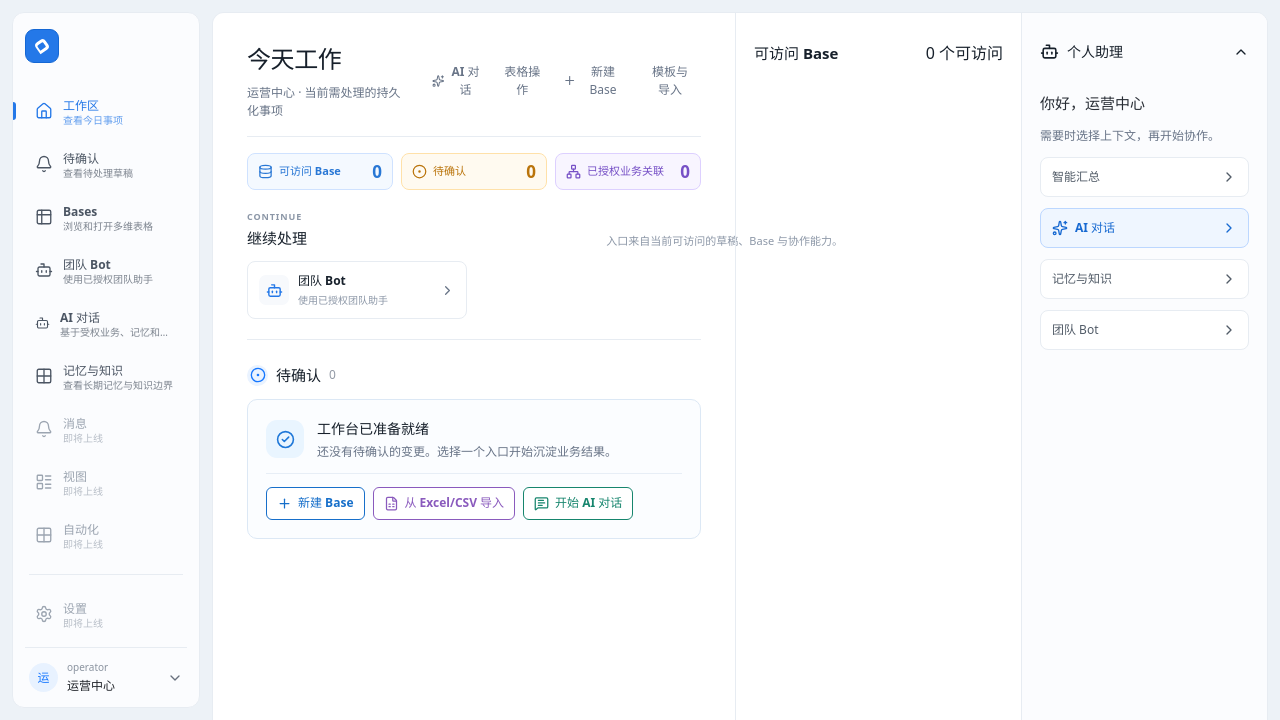
Test case: keeps a failed creation drawer and its idempotency key for an explicit retry
Click the button "新建 Base" in the row of "· 当前需处理的持久化事项" at (594, 80), box top-left (556, 56), bottom-right (631, 106)
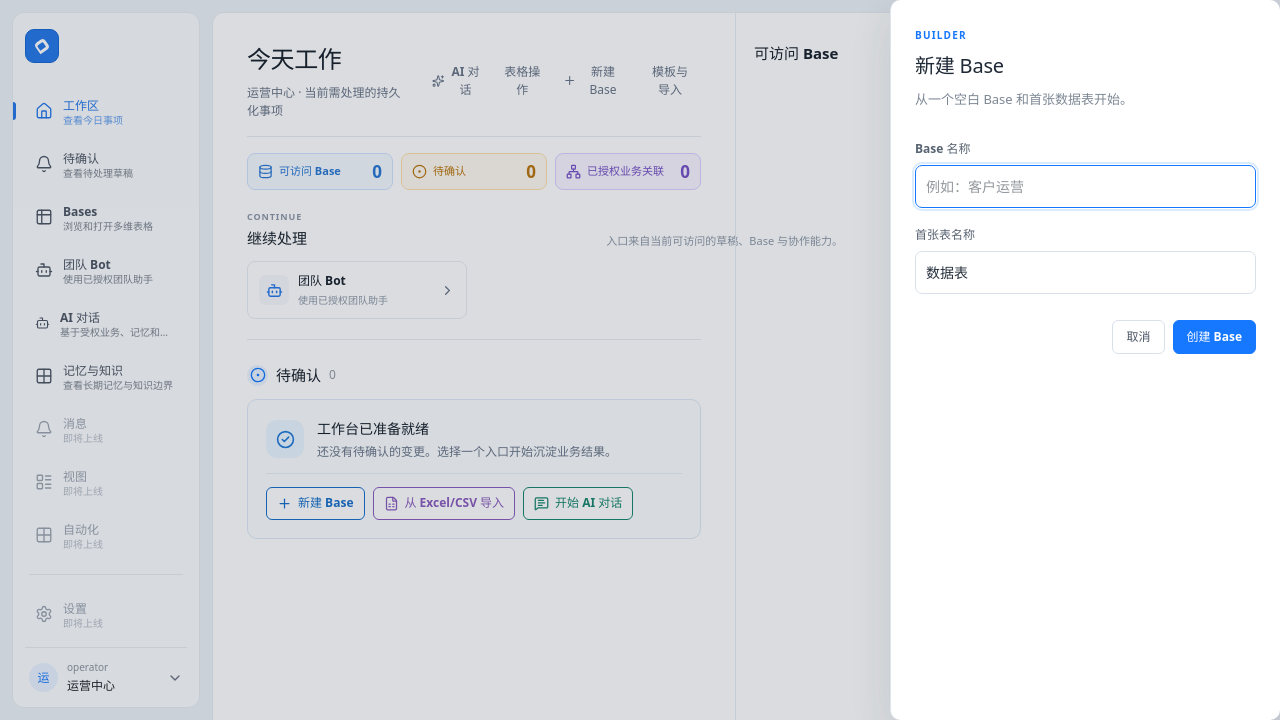
Type "重试 Base" into the field labelled "Base 名称" at (1086, 186), box top-left (915, 165), bottom-right (1256, 208)
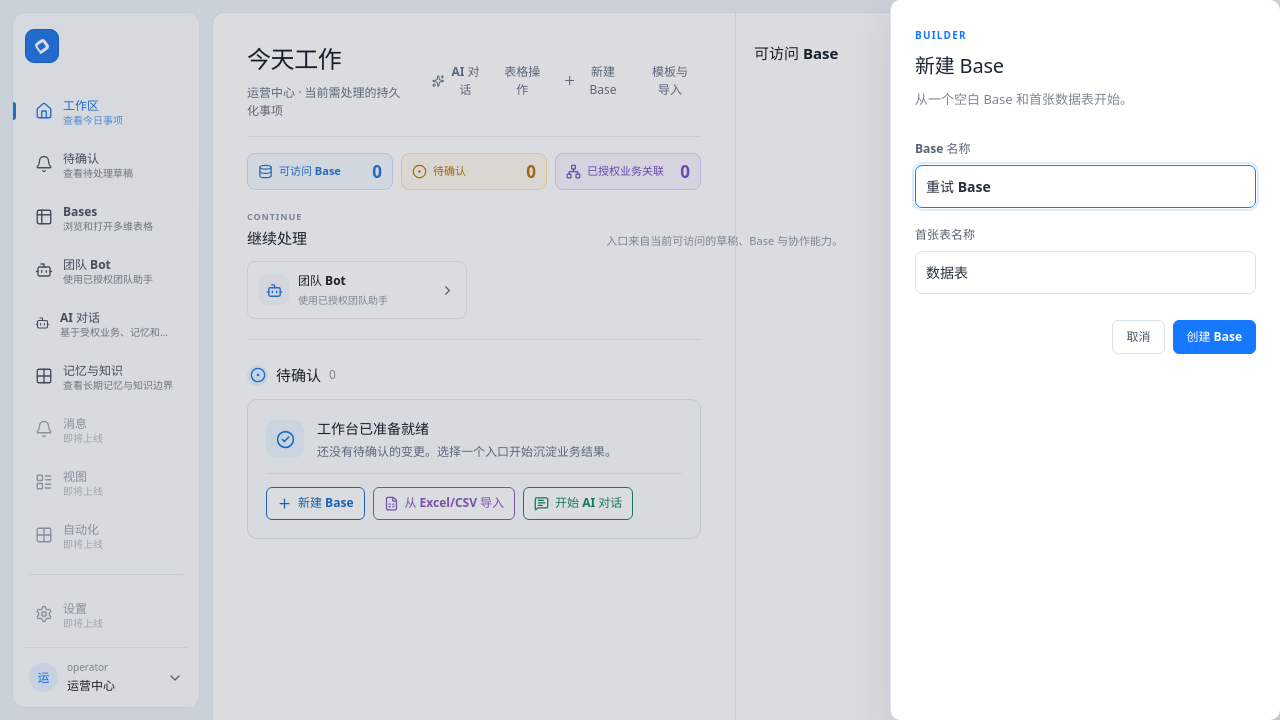
Click the button "创建 Base" at (1214, 337), box top-left (1172, 320), bottom-right (1256, 354)
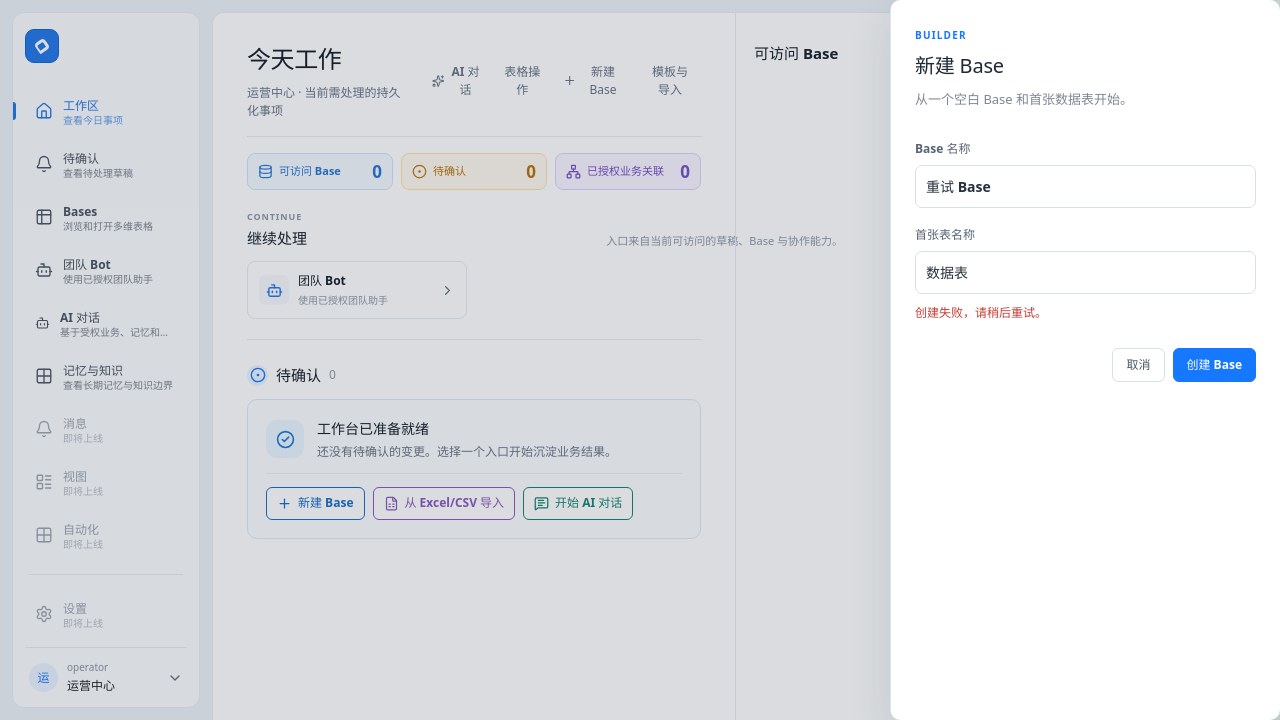
Result: the dialog is shown at top-left (890, 0), bottom-right (1279, 719)
Result: the message reads "创建失败，请稍后重试。" at top-left (915, 304), bottom-right (1047, 321)
Click the button "创建 Base" at (1214, 365), box top-left (1172, 348), bottom-right (1256, 382)
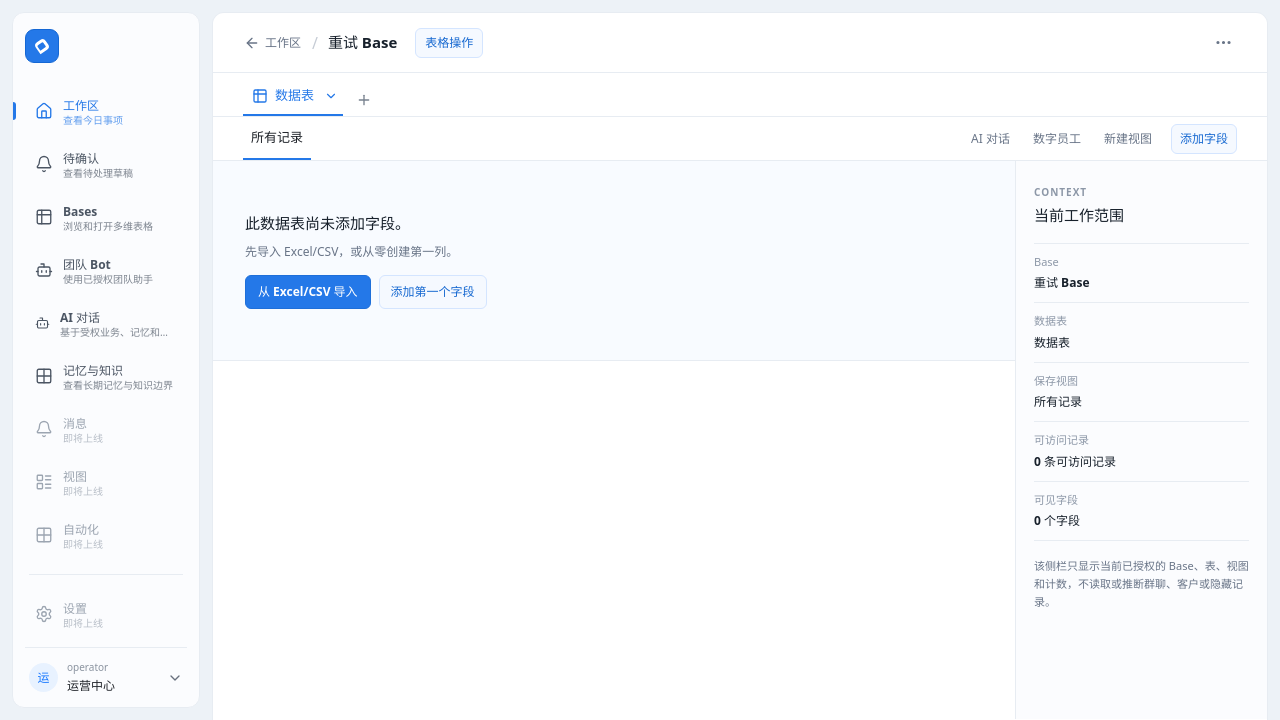
Result: the heading "重试 Base" is shown at top-left (328, 31), bottom-right (397, 54)
